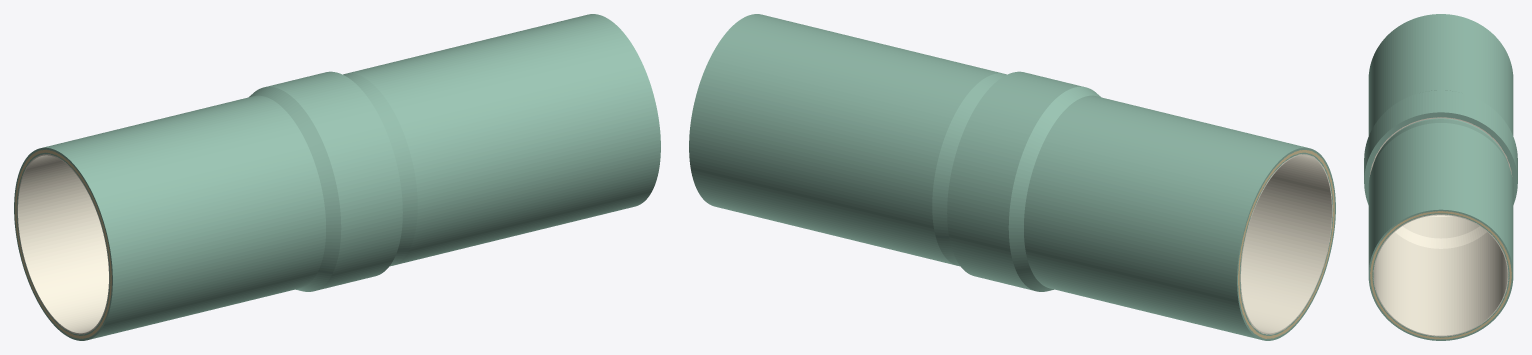
File: connect.glb
3 renders of one model, left to right at view 1: azimuth 30°, elevation 25°; view 2: azimuth 150°, elevation 25°; view 3: azimuth 270°, elevation 25°, orthographic. The views are drawn at different scales.
Visible parts, largest first — view 1: N_BodyOuter, B_BodyOuter, B_StructSocket, B_Liner, N_StructJoint, B_BodySand, B_BodyInner; view 2: N_BodyOuter, B_BodyOuter, B_StructSocket, B_Liner, N_StructJoint, B_BodySand, B_BodyInner; view 3: N_BodyOuter, N_Liner, B_BodyOuter, B_StructSocket, N_BodySand, N_BodyInner, N_StructJoint, B_Liner.
Boxes of the visible parts, <box> form: N_BodyOuter: <box>348,14,660,265</box>; B_BodyOuter: <box>14,95,325,340</box>; B_StructSocket: <box>249,71,402,291</box>; B_Liner: <box>17,154,109,334</box>; N_StructJoint: <box>343,73,417,266</box>; B_BodySand: <box>15,149,111,338</box>; B_BodyInner: <box>16,152,110,335</box>; N_BodyOuter: <box>689,14,1001,265</box>; B_BodyOuter: <box>1024,95,1335,340</box>; B_StructSocket: <box>947,71,1100,291</box>; B_Liner: <box>1240,154,1332,334</box>; N_StructJoint: <box>932,73,1006,266</box>; B_BodySand: <box>1238,150,1334,338</box>; B_BodyInner: <box>1239,152,1333,335</box>; N_BodyOuter: <box>1368,123,1513,340</box>; N_Liner: <box>1373,214,1508,336</box>; B_BodyOuter: <box>1368,14,1513,135</box>; B_StructSocket: <box>1364,90,1517,204</box>; N_BodySand: <box>1370,211,1511,339</box>; N_BodyInner: <box>1372,213,1509,337</box>; N_StructJoint: <box>1373,118,1508,164</box>; B_Liner: <box>1369,117,1512,216</box>.
Bounding box in the file's own units: 3.2 × 1.06 × 1.06.
